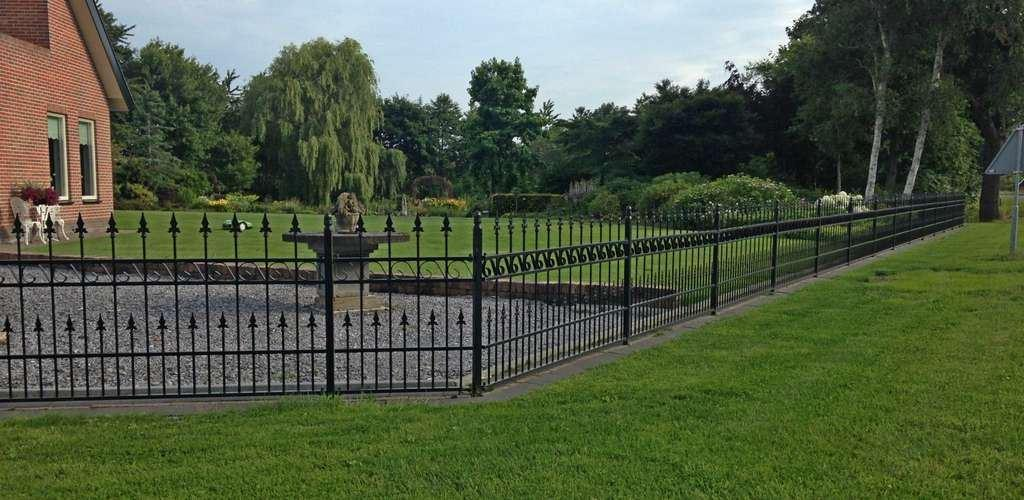obstacle: (47, 36, 1024, 391)
